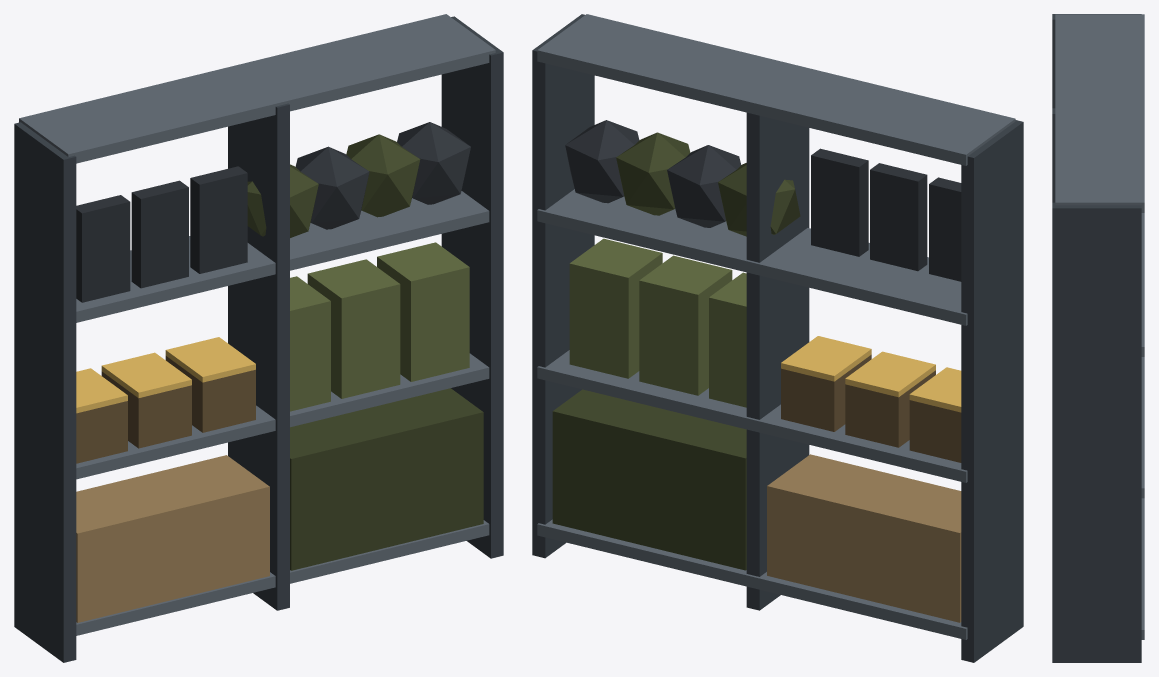
The model's file is prop_carrier_kitshelf.fbx.
The picture shows the model from 3 angles, left to right: view 1: azimuth 30°, elevation 25°; view 2: azimuth 150°, elevation 25°; view 3: azimuth 270°, elevation 25°; orthographic projection. The views are drawn at different scales.
Parts seen in each view (by area): view 1: prop_carrier_kitshelf; view 2: prop_carrier_kitshelf; view 3: prop_carrier_kitshelf.
Part boxes in pixels (x1,y1,x2,y2): prop_carrier_kitshelf: (14,14,503,662); prop_carrier_kitshelf: (532,14,1023,662); prop_carrier_kitshelf: (1052,14,1144,662).
Bounding box in the file's own units: 824 × 905 × 165.
